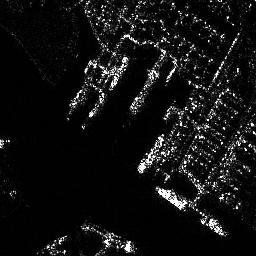ship: (79, 221, 139, 255), (136, 132, 165, 174), (155, 185, 184, 210), (109, 56, 128, 91), (201, 218, 227, 236)
